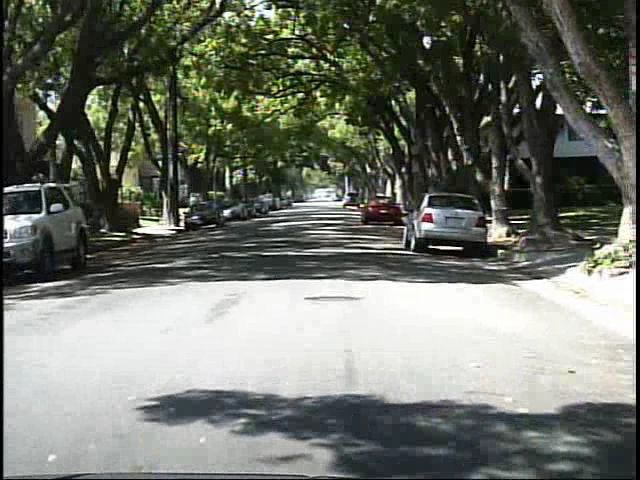person: (183, 187, 201, 218)
